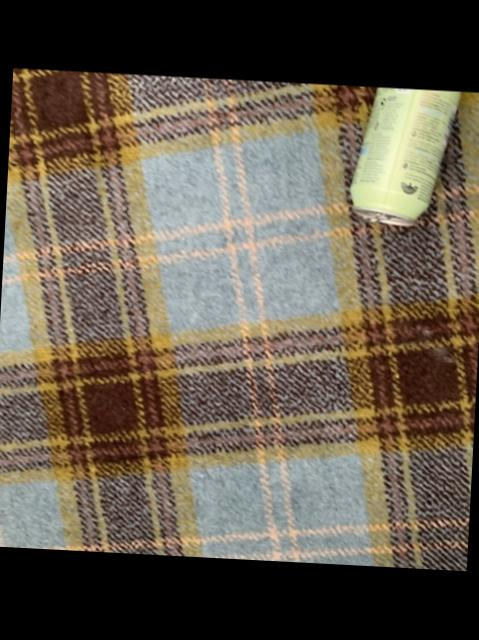metal: (348, 87, 458, 225)
